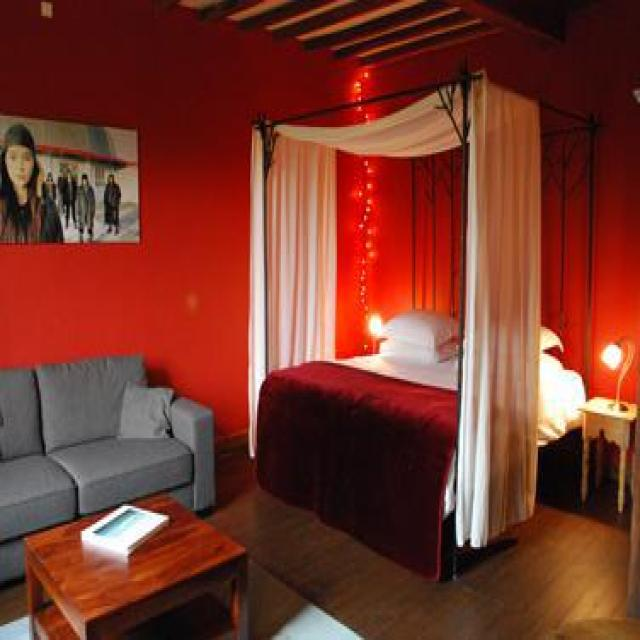other: (352, 164, 386, 350), (600, 335, 624, 378)
